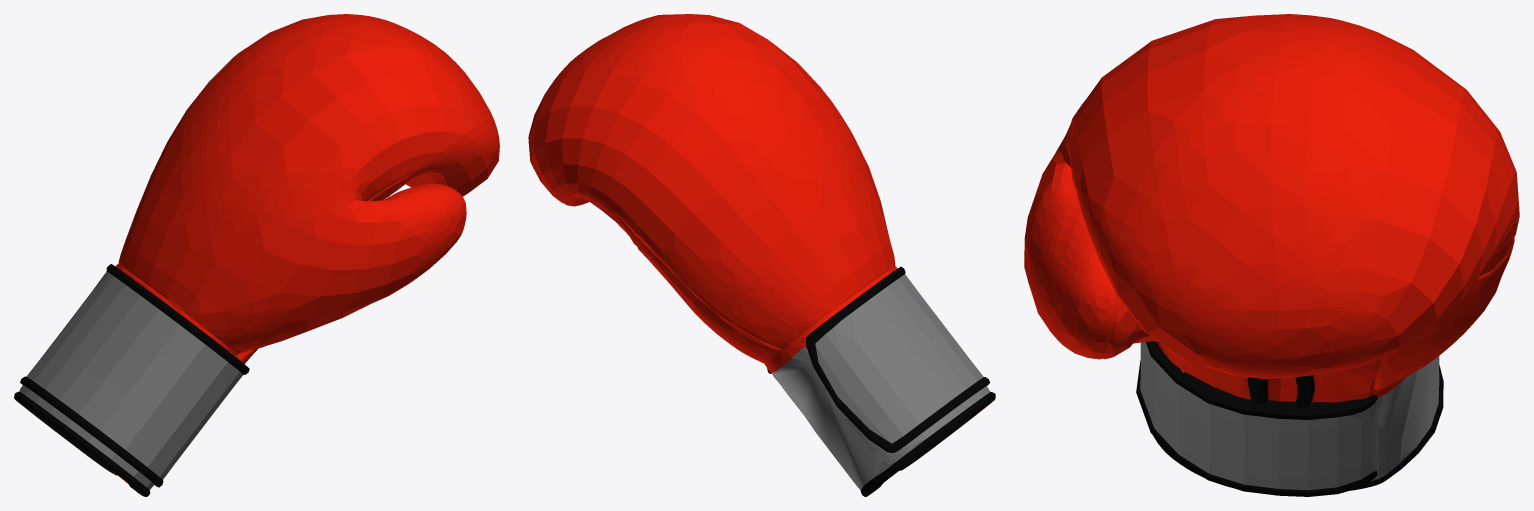
File: Red_Left_Glove.fbx
3 renders of one model, left to right at view 1: azimuth 30°, elevation 25°; view 2: azimuth 150°, elevation 25°; view 3: azimuth 270°, elevation 25°, orthographic. The views are drawn at different scales.
Visible parts, largest first — view 1: 15969_Boxing_Glove_new; view 2: 15969_Boxing_Glove_new; view 3: 15969_Boxing_Glove_new.
Boxes of the visible parts, <box> form: 15969_Boxing_Glove_new: <box>14,14,499,496</box>; 15969_Boxing_Glove_new: <box>528,14,995,496</box>; 15969_Boxing_Glove_new: <box>1024,14,1519,496</box>.
Size of the model in its own units: 2146 by 1903 by 1369.
